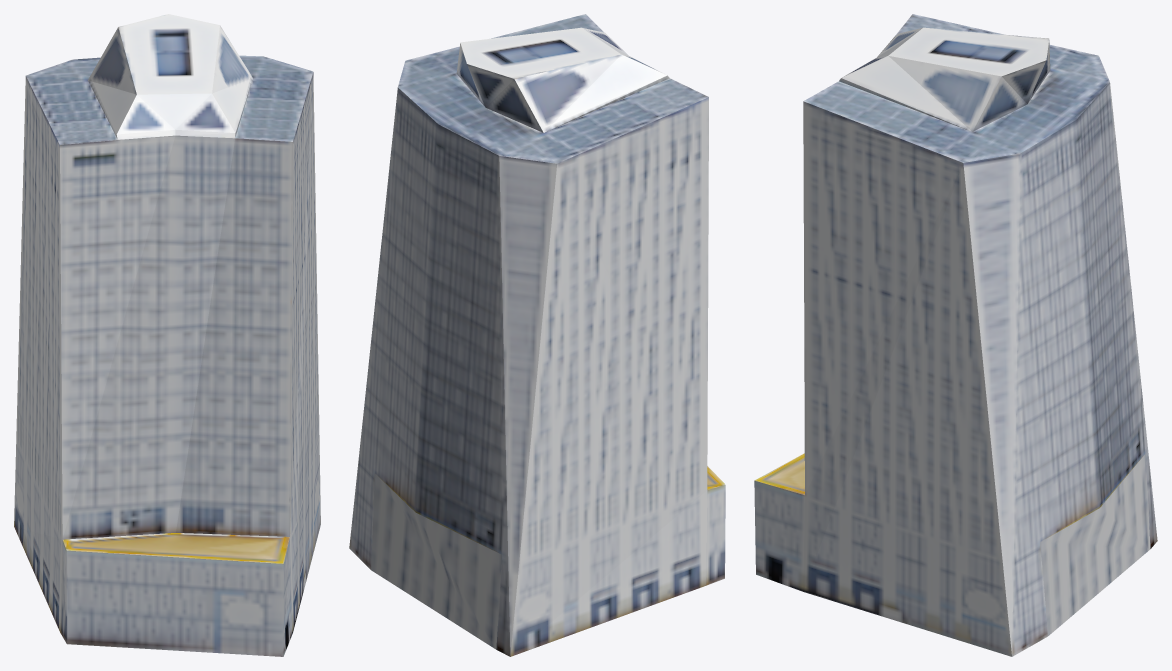
3 views of the same model, side by side, from view 1: azimuth 30°, elevation 25°; view 2: azimuth 150°, elevation 25°; view 3: azimuth 270°, elevation 25° (orthographic).
Parts seen in each view (by area): view 1: 4.09_OFF.001; view 2: 4.09_OFF.001; view 3: 4.09_OFF.001.
Boxes of the visible parts, bbox=[...] form: 4.09_OFF.001: bbox=[14, 14, 320, 656]; 4.09_OFF.001: bbox=[349, 14, 725, 656]; 4.09_OFF.001: bbox=[754, 14, 1157, 656].
Size of the model in its own units: 62.56 by 101 by 69.21.
1 material, 1 textured.
